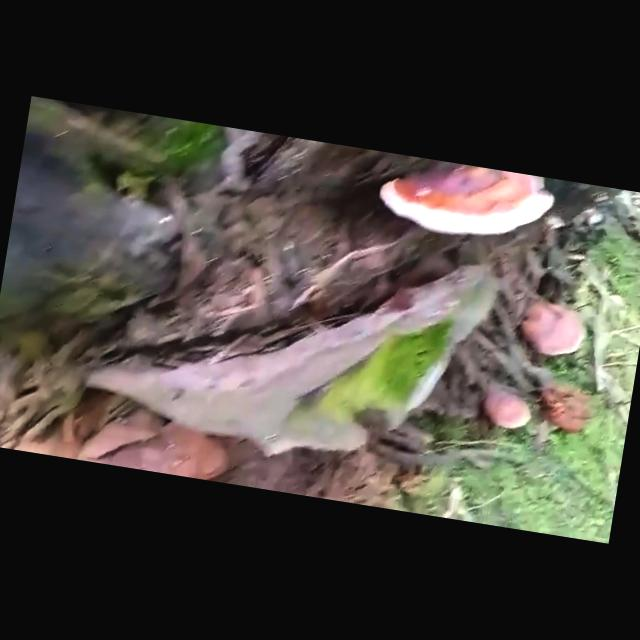ganoderma: (373, 155, 561, 255), (514, 297, 591, 364), (478, 384, 537, 435)
